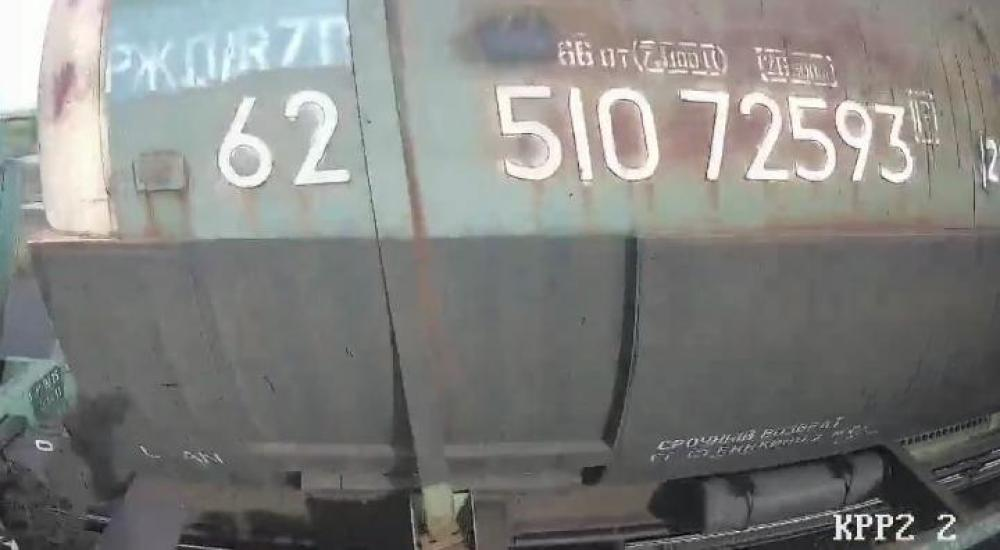Wagon-number: (481, 79, 923, 195)
